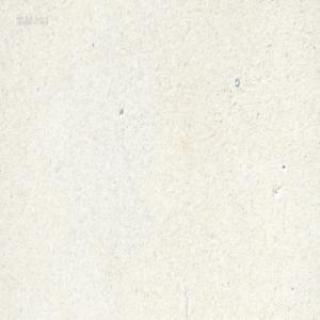Washertrack_idkeyframe: (232, 75, 238, 86)
